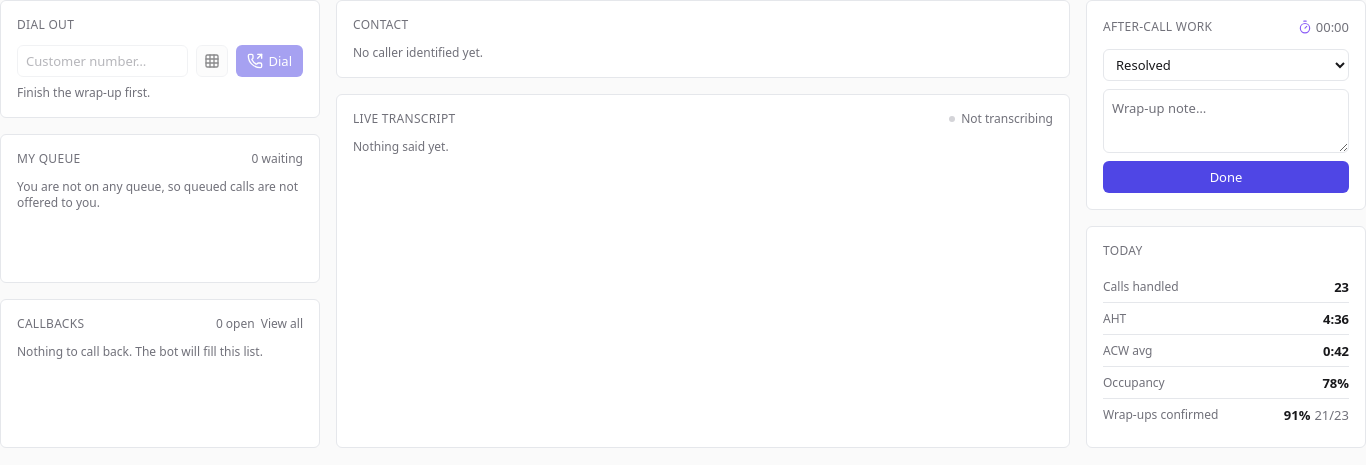
Test: after-call work › shows what was confirmed as soon as the record says so
Select "No Answer" in the dropdown named "disposition" at point(1226, 65), box [1103,49,1349,81]
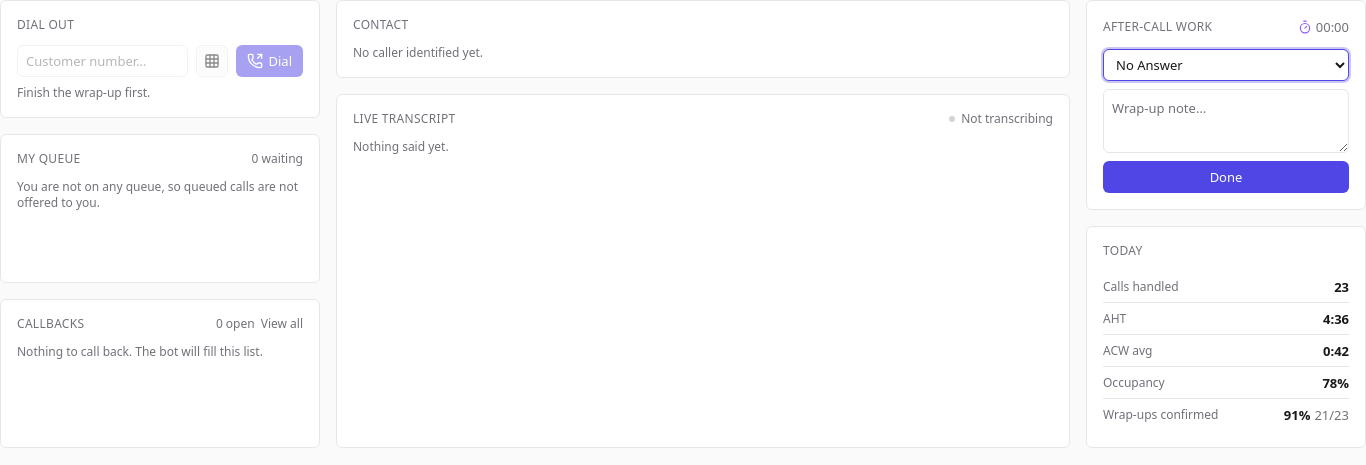
Type "nobody there" into the text box labelled "Wrap-up note…" at point(1226, 121), box [1103,89,1349,153]
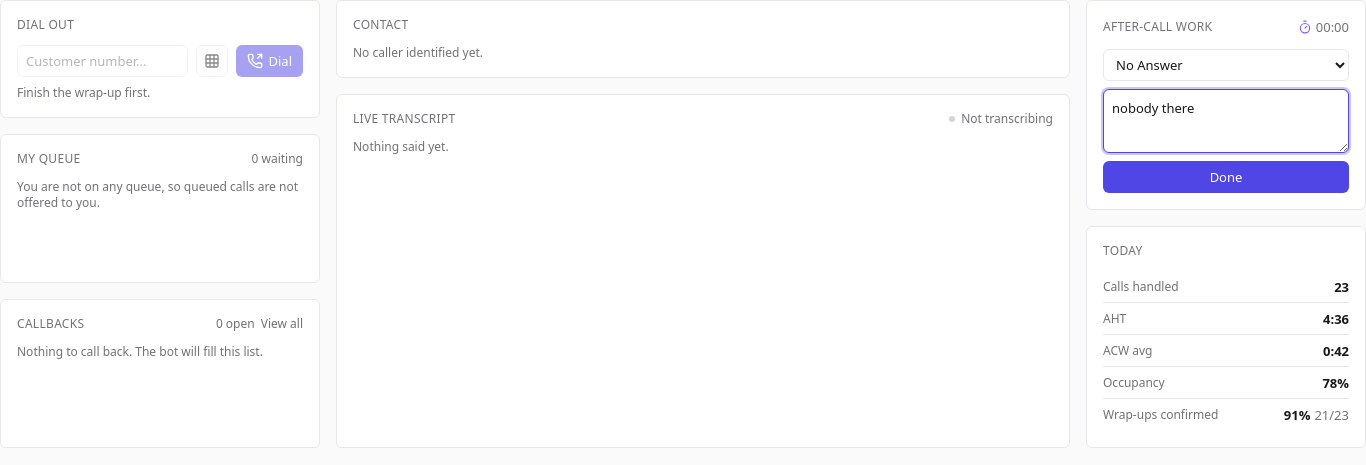
Click the button "Done" at point(1226, 177), box [1103,161,1349,193]
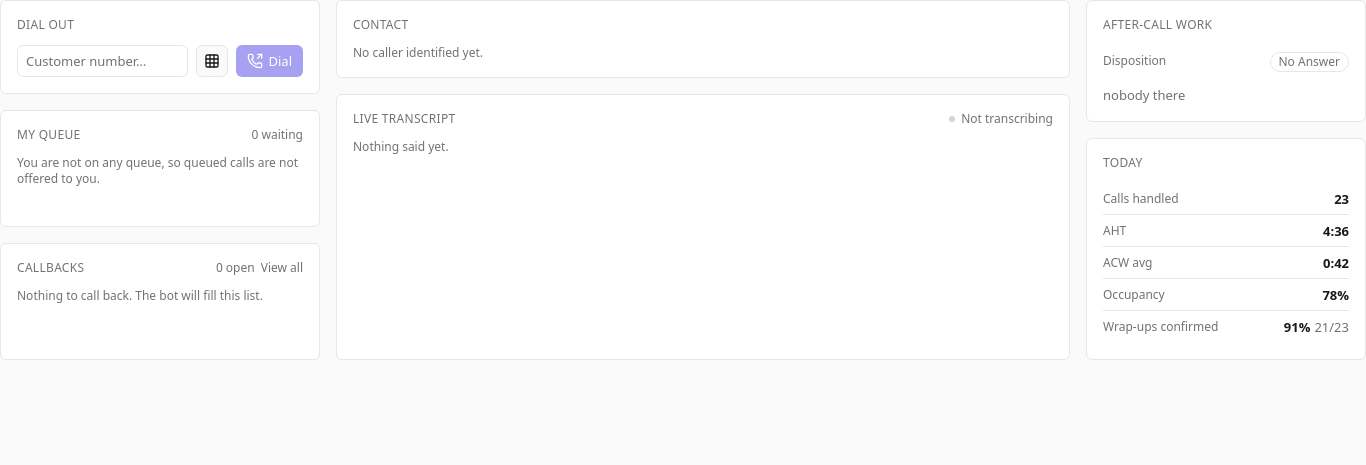
Expected: the field labelled "wrap-up note" is not shown
Expected: the text "No Answer" is shown, [1270,52,1349,72]
Expected: the text "nobody there" is shown, [1103,86,1185,104]
